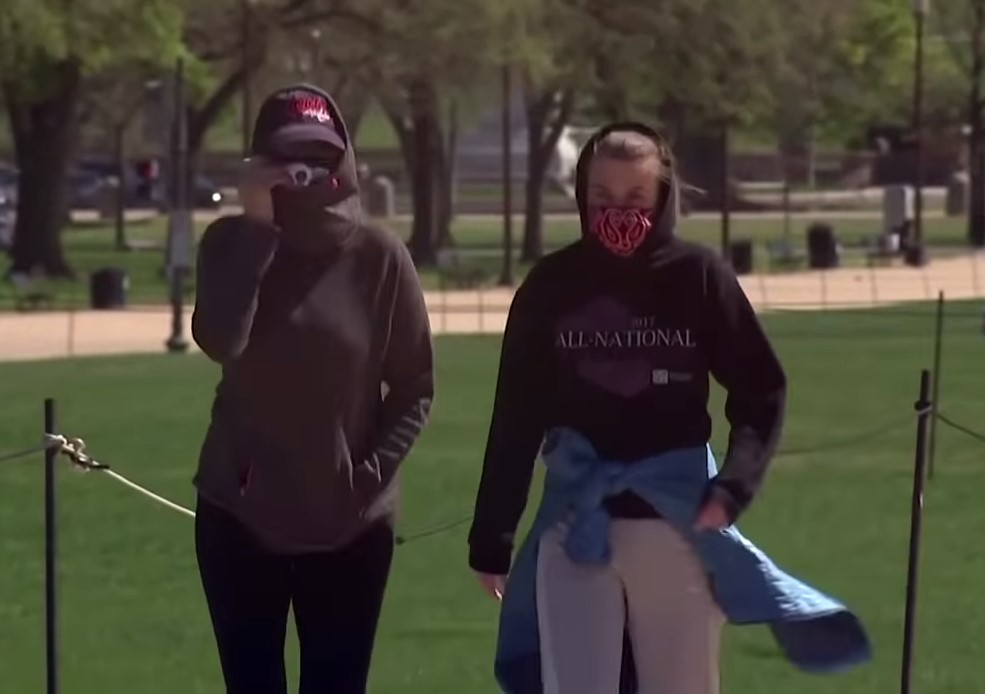face_with_mask: (252, 84, 359, 233), (571, 119, 675, 271)
